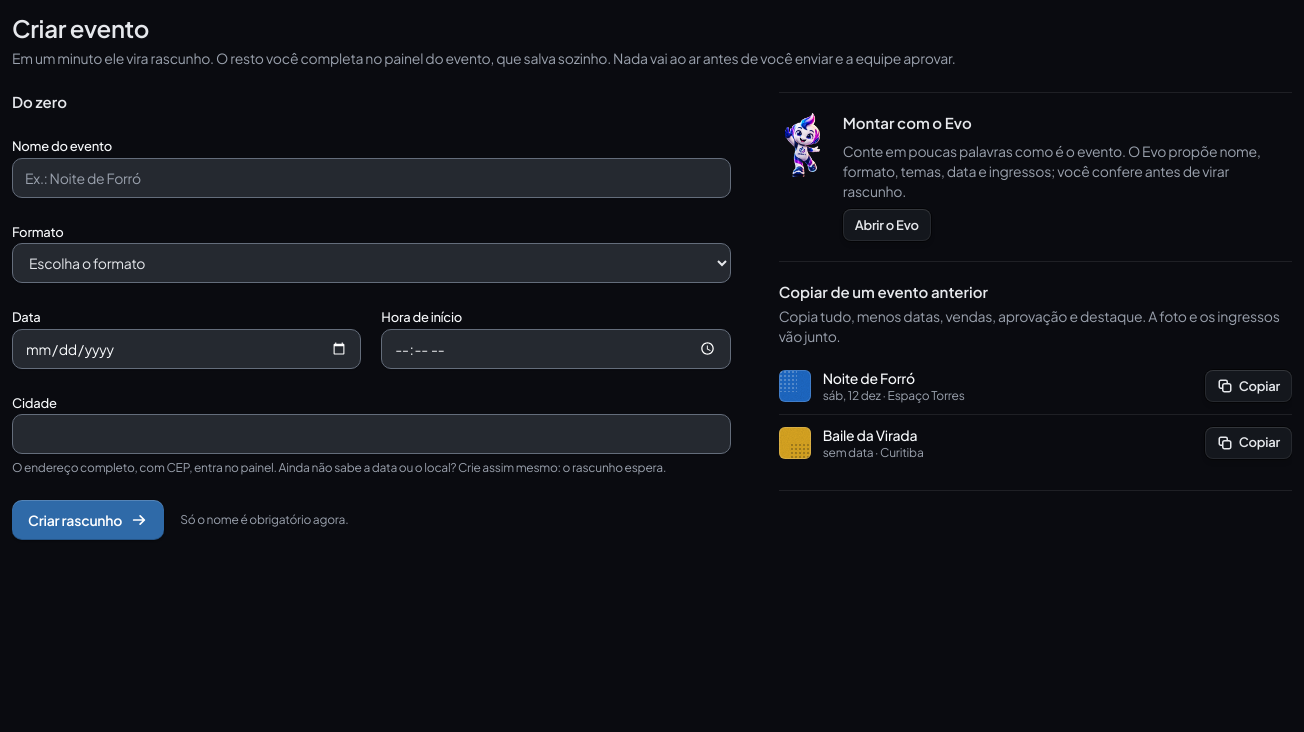
Test: ComecoRapido: do zero › hora sem data não é perdida em silêncio: pede a data e não cria
The width and height of the screenshot is (1304, 732).
Type "Teste" into the field labelled "Nome do evento" at (371, 178), box [12,158,731,198]
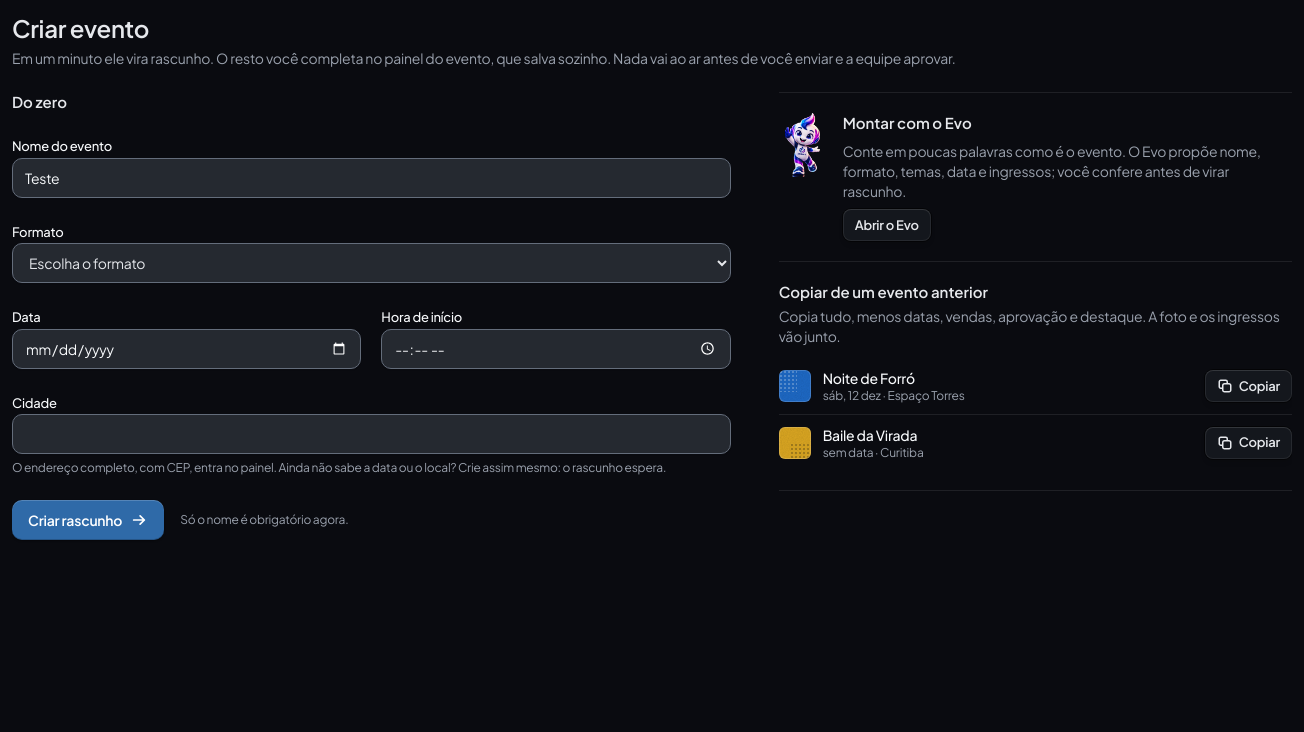
Type "20:00" into the time field labelled "Hora de início" at (556, 349), box [381,329,731,369]
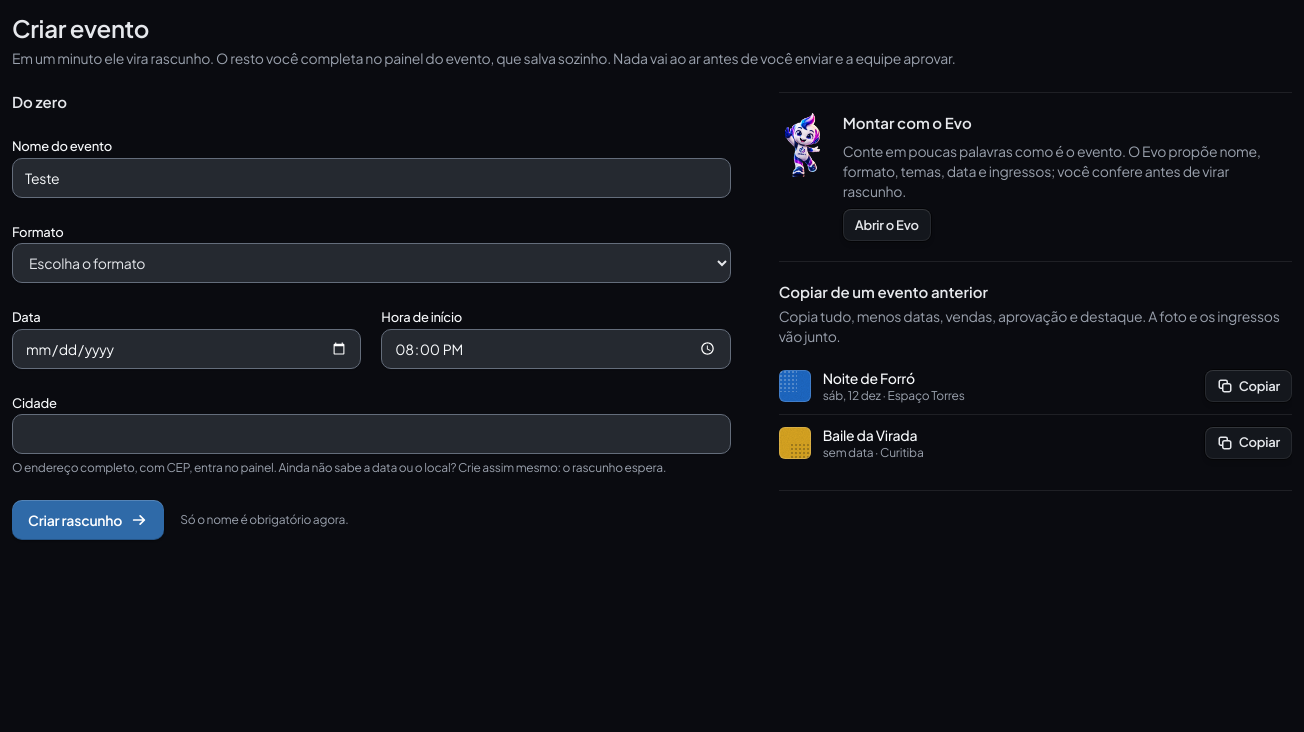
Click the button "Criar rascunho" at (88, 520), box [12,500,164,540]
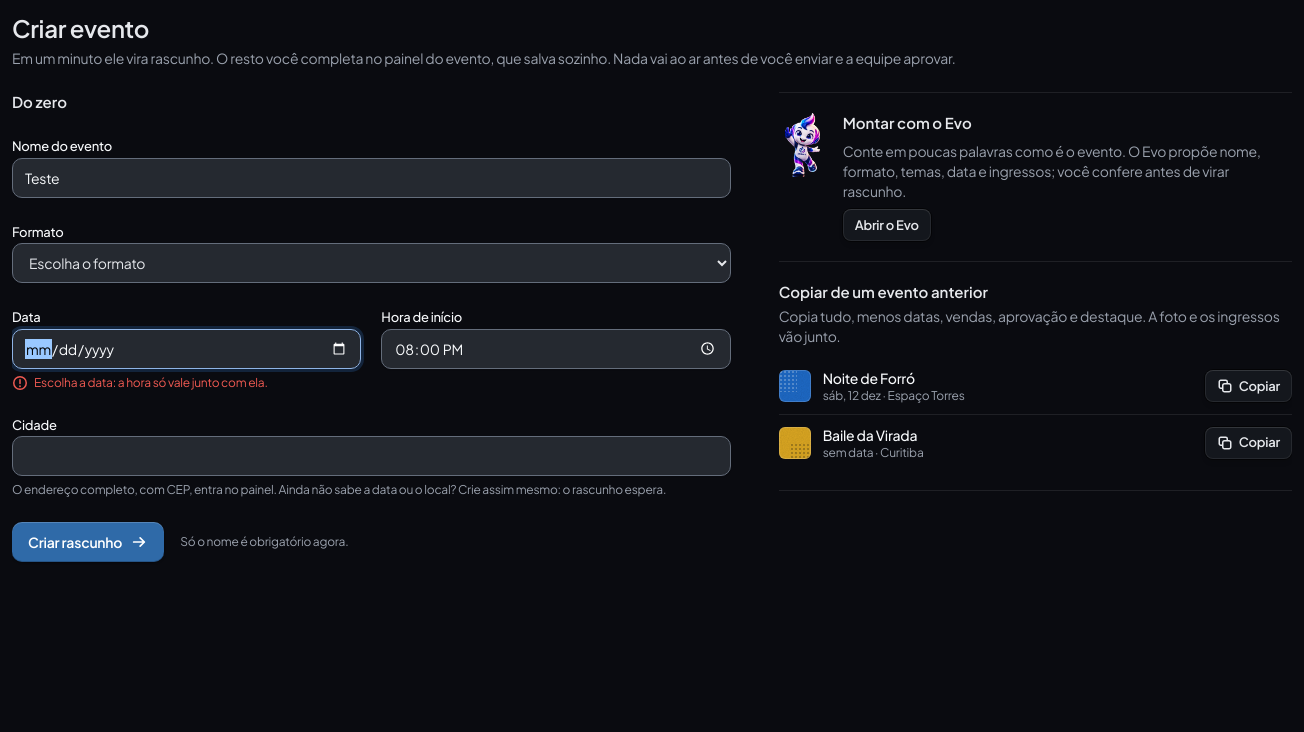
Check: the message shows "Escolha a data", box [34,375,268,390]
